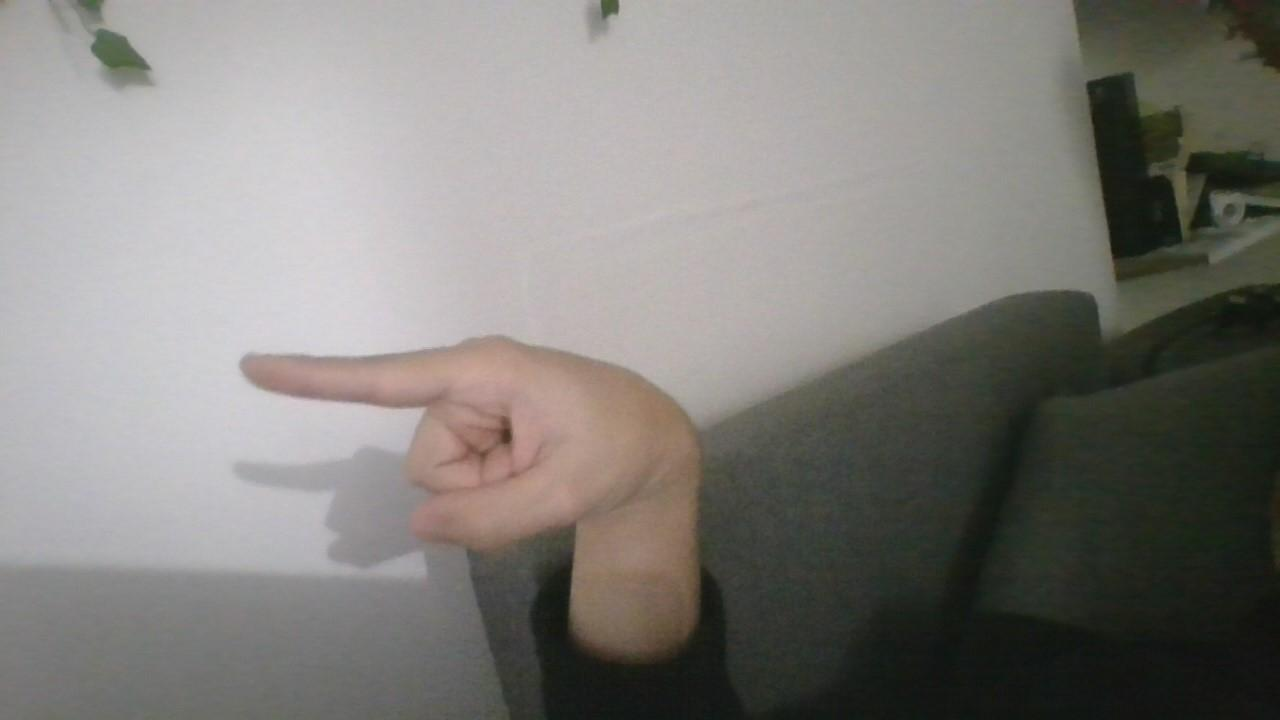left: (232, 306, 707, 577)
